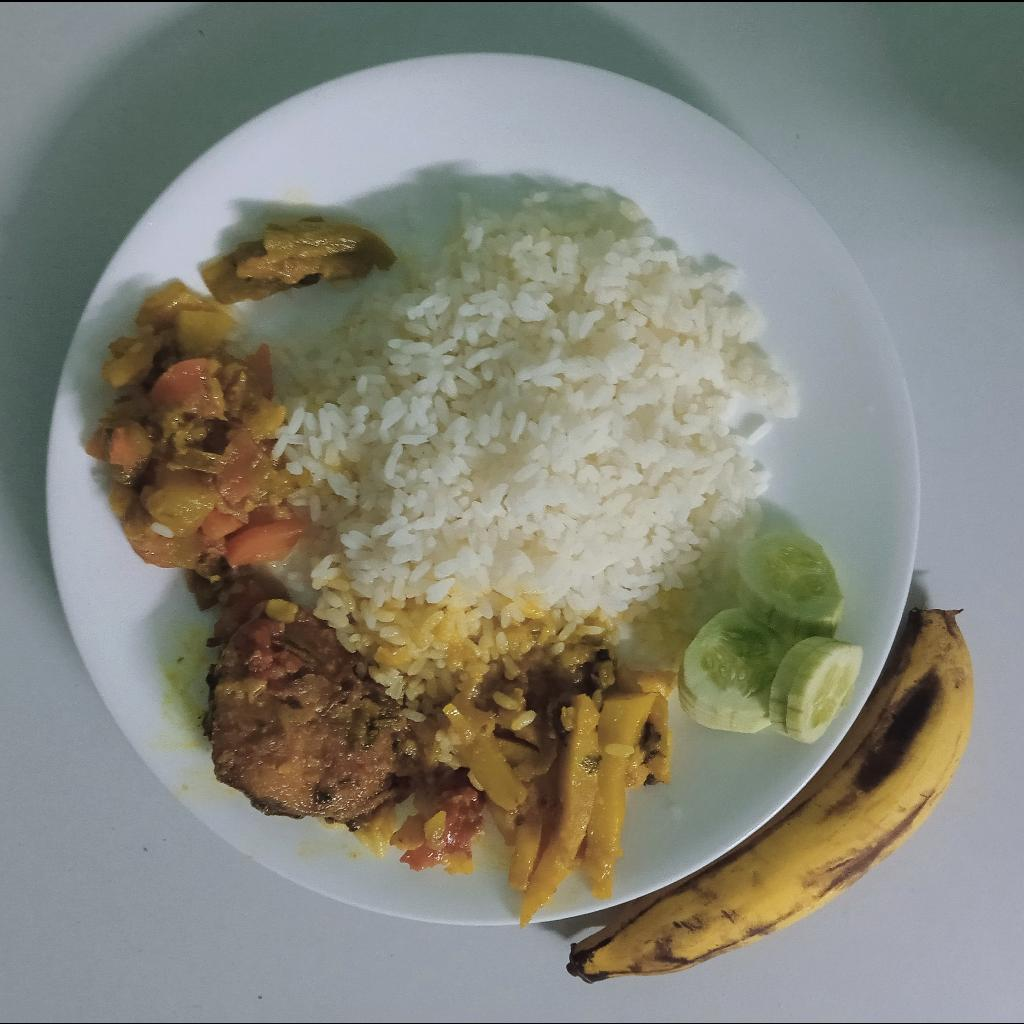banana: (570, 610, 974, 984)
cucumber: (681, 529, 863, 744)
fish: (213, 607, 410, 830)
potato: (392, 635, 674, 927)
rice: (288, 190, 794, 696)
vegetable: (88, 219, 396, 600)
